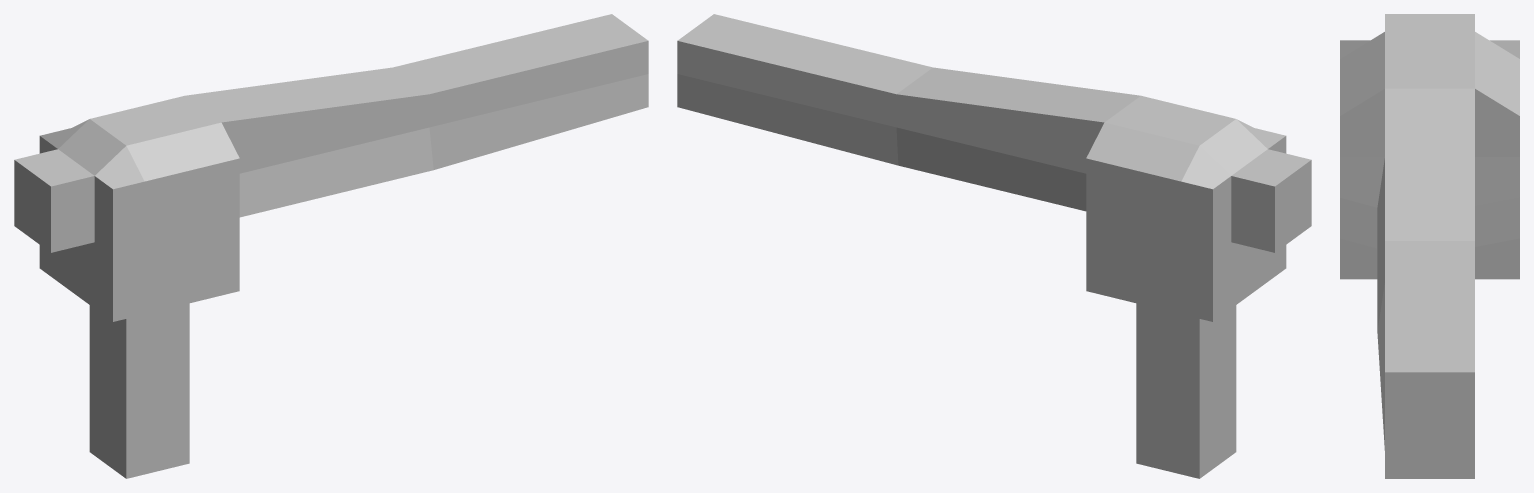
Rendered from handgun1.glb.
3 renders of one model, left to right at view 1: azimuth 30°, elevation 25°; view 2: azimuth 150°, elevation 25°; view 3: azimuth 270°, elevation 25°, orthographic. The views are drawn at different scales.
Visible parts, largest first — view 1: handgun; view 2: handgun; view 3: handgun.
Boxes of the visible parts, box(x1,y1,x2,y2) form: handgun: box(14, 14, 648, 478); handgun: box(677, 14, 1311, 478); handgun: box(1340, 14, 1519, 478).
Size of the model in its own units: 2.43 by 1.3 by 0.5166.
Materials: 1 (1 with a texture image).
